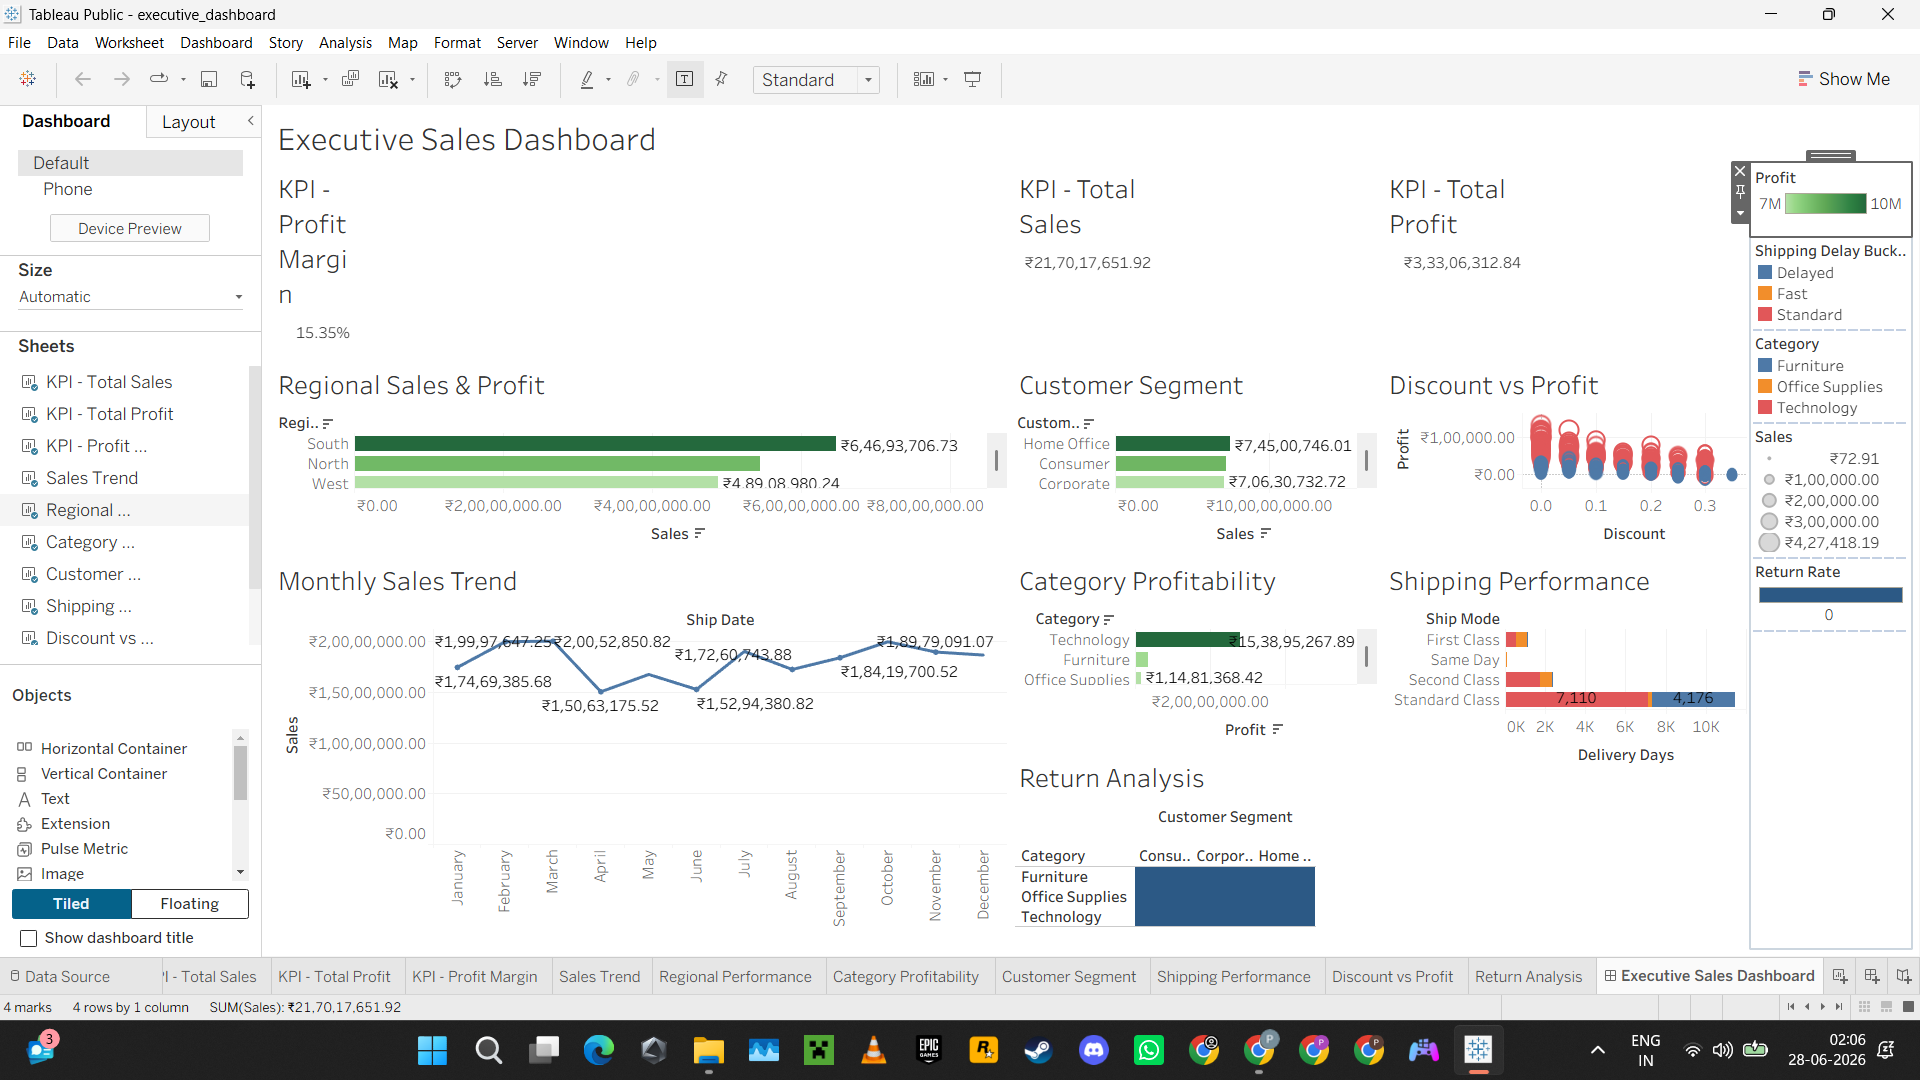

What the dashboard file says about the page in this screenshot:
{"tool":"tableau","page":{"name":"Executive Sales Dashboard","canvas":[1000,1000],"units":"permille","ordinal":0},"visuals":[{"type":"title","box":[4.8,9.4,990.3,58.8]},{"type":"worksheet","title":"KPI - Profit Margin","mark":"Automatic","box":[4.8,68.2,446.9,230.6]},{"type":"worksheet","title":"KPI - Total Sales","mark":"Automatic","box":[451.7,68.2,223.4,230.6]},{"type":"worksheet","title":"KPI - Total Profit","mark":"Automatic","box":[675.1,68.2,223.5,230.6]},{"type":"legend","title":"Regional Performance","param":"[federated.06wv0nj17wkk671c1l8pr0jlt852].[sum:profit:qk]","box":[898.6,68.2,96.6,85.8]},{"type":"legend","title":"Shipping Performance","param":"[federated.06wv0nj17wkk671c1l8pr0jlt852].[none:Calculation_1040979734097926:nk]","box":[898.6,153.9,96.6,109.3]},{"type":"legend","title":"Discount vs Profit","param":"[federated.06wv0nj17wkk671c1l8pr0jlt852].[none:category:nk]","box":[898.6,263.2,96.6,109.3]},{"type":"worksheet","title":"Regional Performance","mark":"Automatic","rows":["region"],"cols":["sales"],"box":[4.8,298.8,446.9,230.6]},{"type":"worksheet","title":"Customer Segment","mark":"Automatic","rows":["customer_segment"],"cols":["sales"],"box":[451.7,298.8,223.4,230.6]},{"type":"worksheet","title":"Discount vs Profit","mark":"Automatic","rows":["profit"],"cols":["discount"],"box":[675.1,298.8,223.5,230.6]},{"type":"legend","title":"Discount vs Profit","param":"[federated.06wv0nj17wkk671c1l8pr0jlt852].[sum:sales:qk]","box":[898.6,372.5,96.6,158.6]},{"type":"worksheet","title":"Sales Trend","mark":"Line","rows":["sales"],"cols":["ship_date"],"box":[4.8,529.4,446.9,461.2]},{"type":"worksheet","title":"Category Profitability","mark":"Automatic","rows":["category"],"cols":["profit"],"box":[451.7,529.4,223.4,230.6]},{"type":"worksheet","title":"Shipping Performance","mark":"Automatic","rows":["ship_mode"],"cols":["delivery_days"],"box":[675.1,529.4,223.5,461.2]},{"type":"legend","title":"Return Analysis","param":"[federated.06wv0nj17wkk671c1l8pr0jlt852].[usr:Calculation_1040979733950469:qk]","box":[898.6,531.1,96.6,85.8]},{"type":"worksheet","title":"Return Analysis","mark":"Square","rows":["category"],"cols":["customer_segment"],"box":[451.7,760,223.4,230.6]}]}

Visuals, with their boxes on the dashboard's canvas, which has no fixed pixel size, in thousandths of its width and height (x1, y1, x2, y2). These are canvas units, not pixel positions in the 1920x1080 screenshot, which may show the page scaled, cropped or inside an application window:
title: [5,9,995,68]
"KPI - Profit Margin" worksheet: [5,68,452,299]
"KPI - Total Sales" worksheet: [452,68,675,299]
"KPI - Total Profit" worksheet: [675,68,899,299]
"Regional Performance" legend: [899,68,995,154]
"Shipping Performance" legend: [899,154,995,263]
"Discount vs Profit" legend: [899,263,995,372]
"Regional Performance" worksheet: [5,299,452,529]
"Customer Segment" worksheet: [452,299,675,529]
"Discount vs Profit" worksheet: [675,299,899,529]
"Discount vs Profit" legend: [899,372,995,531]
"Sales Trend" worksheet (Line marks): [5,529,452,991]
"Category Profitability" worksheet: [452,529,675,760]
"Shipping Performance" worksheet: [675,529,899,991]
"Return Analysis" legend: [899,531,995,617]
"Return Analysis" worksheet (Square marks): [452,760,675,991]
